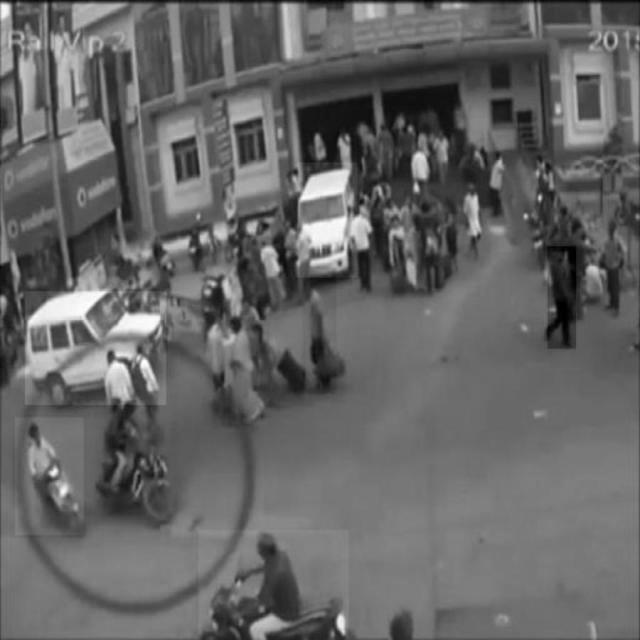person: (303, 276, 337, 394), (225, 315, 261, 423), (548, 247, 576, 349)
vehicle: (199, 530, 349, 640), (25, 292, 166, 405), (95, 393, 177, 524), (15, 418, 83, 536), (298, 163, 358, 277)
